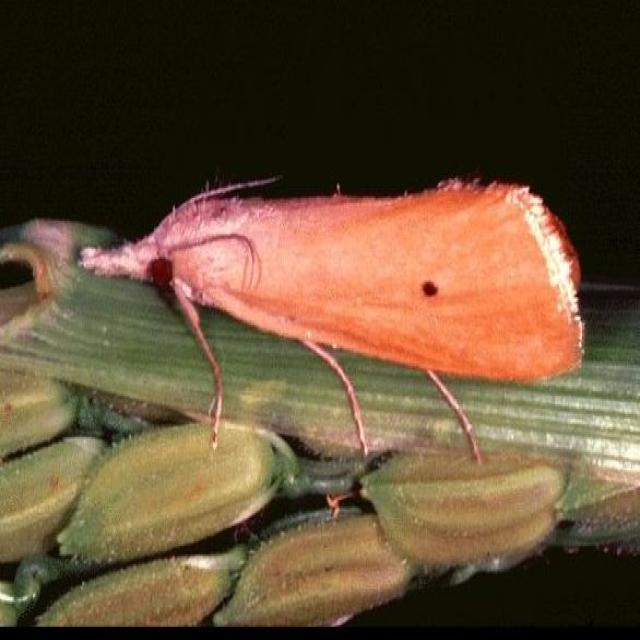rice stem borer -penggerek batang padi-: (77, 170, 586, 472)
